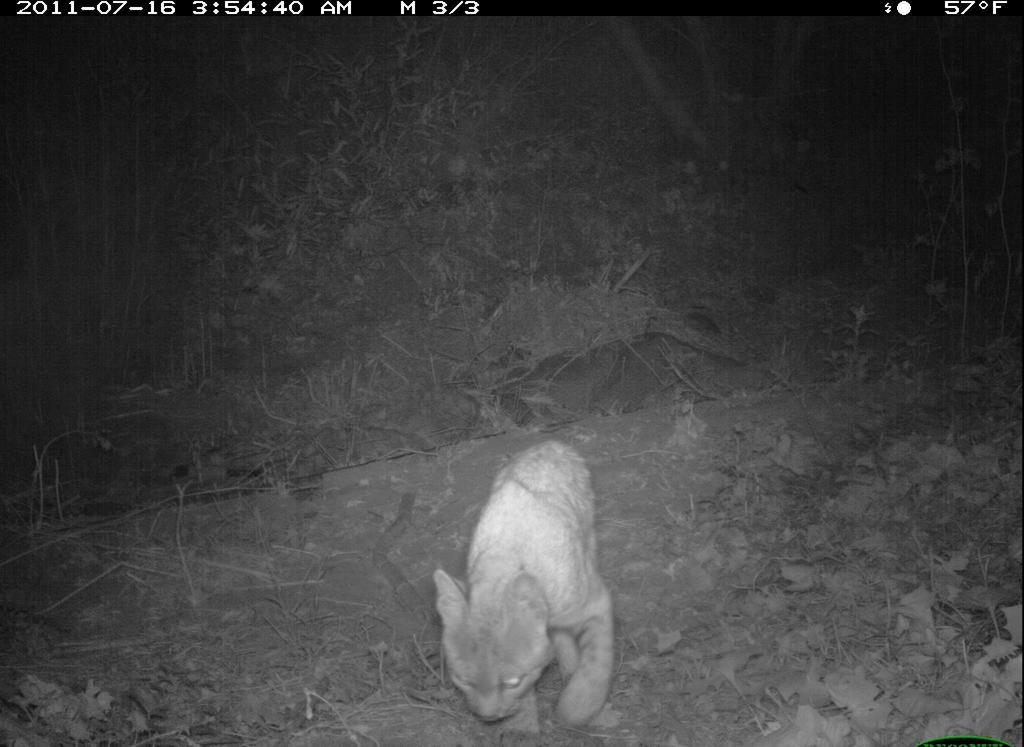bobcat: (429, 437, 626, 734)
